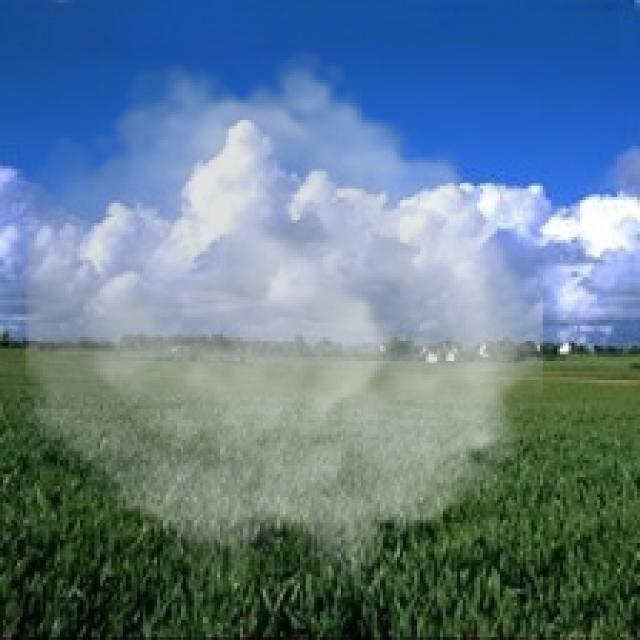smoke: (26, 46, 543, 588)
